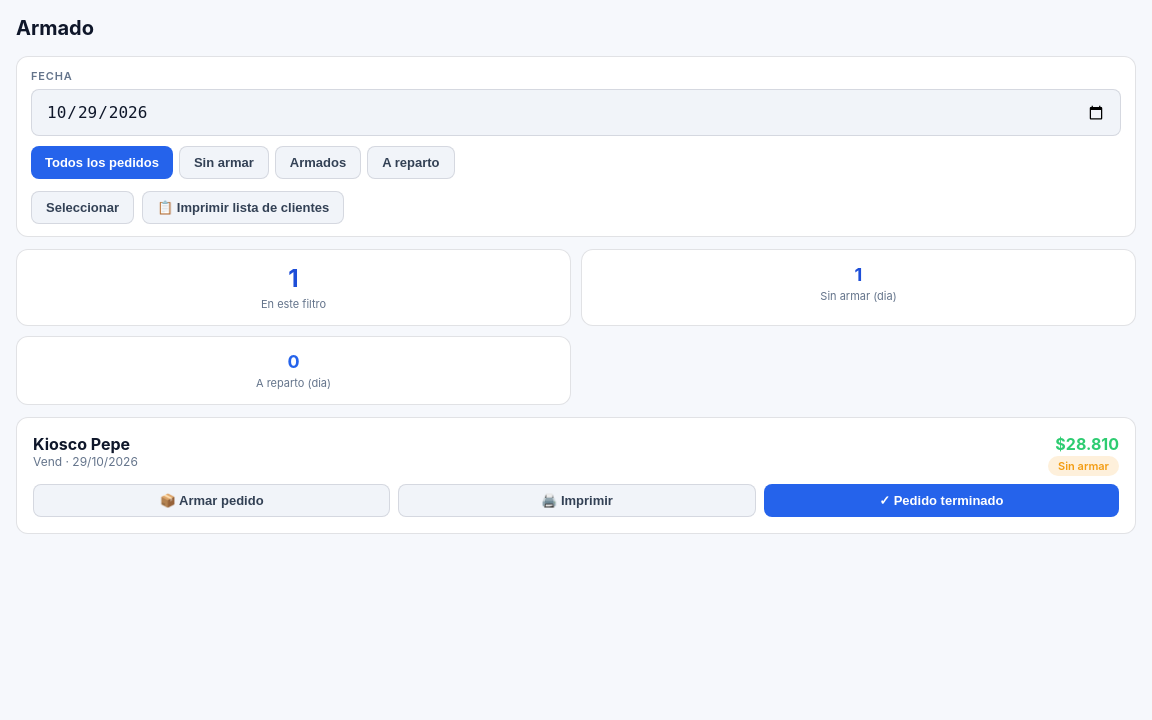
Test case: REQ-VTA Armado › AC-VTA-2 el renglón congelado se muestra como "2 Display (32 u.)"
Click the button "📦 Armar pedido".
click(212, 500)  # box 33,484 -> 390,517
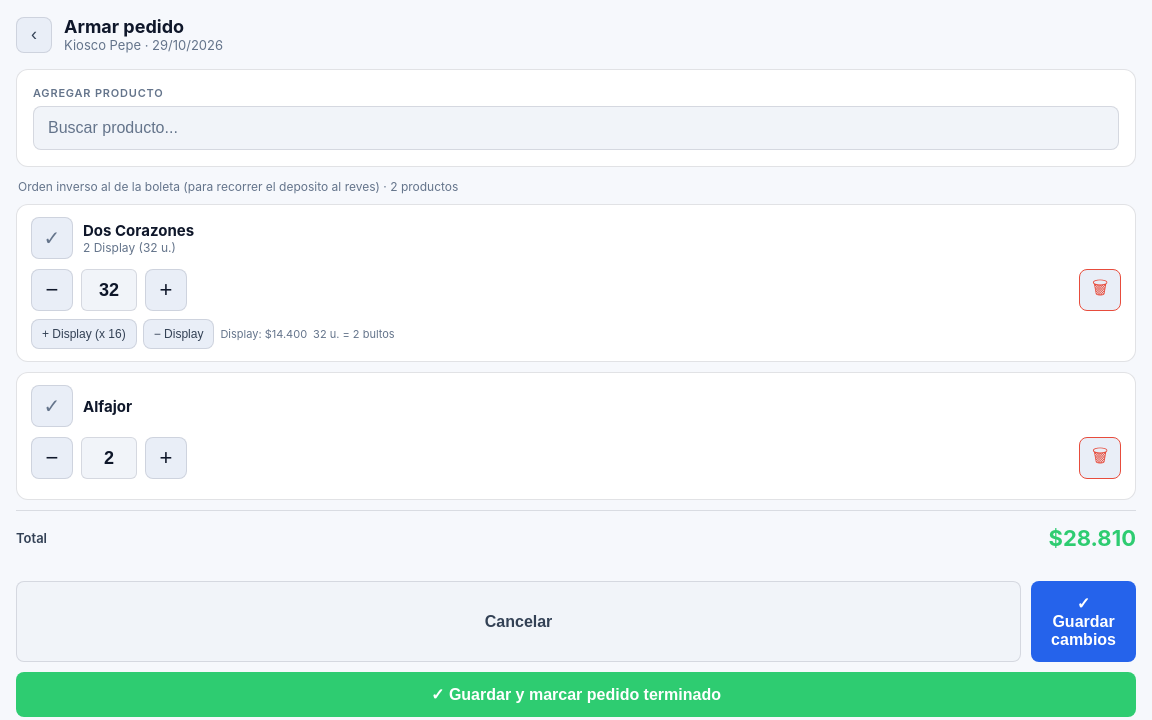
Result: the text with test id "texto-bultos" reads "2 Display (32 u.)" at 83,240 -> 176,255
Result: the button with test id "bulto-mas" reads "+ Display (x 16)" at 31,319 -> 137,349
